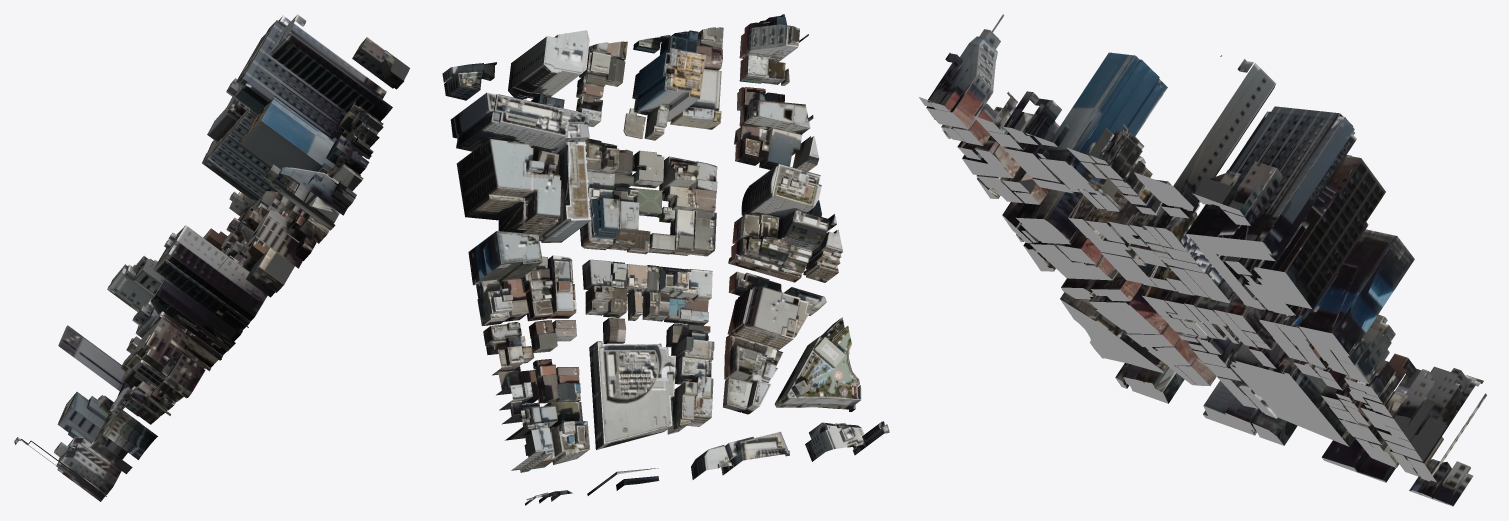
The model's file is 39528_bldg_Building.glb.
3 views of the same model, side by side, from view 1: azimuth 30°, elevation 25°; view 2: azimuth 150°, elevation 25°; view 3: azimuth 270°, elevation 25° (orthographic). The views are drawn at different scales.
Size of the model in its own units: 168 by 150 by 164.
Materials: 4 (3 with a texture image).
